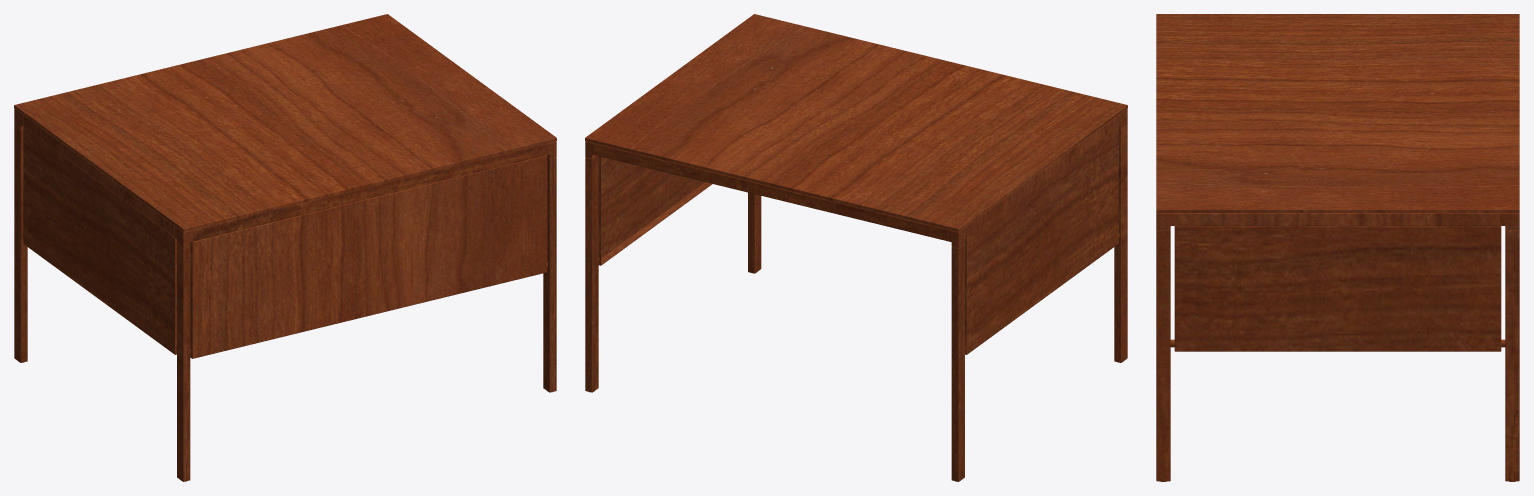
File: desk_03.fbx
3 renders of one model, left to right at view 1: azimuth 30°, elevation 25°; view 2: azimuth 150°, elevation 25°; view 3: azimuth 270°, elevation 25°, orthographic. The views are drawn at different scales.
Visible parts, largest first — view 1: Helsinki_Office_35_Desk_System_180x091; view 2: Helsinki_Office_35_Desk_System_180x091; view 3: Helsinki_Office_35_Desk_System_180x091.
Part boxes in pixels (box(x1,y1,x2,y2)): Helsinki_Office_35_Desk_System_180x091: box(14, 14, 556, 481); Helsinki_Office_35_Desk_System_180x091: box(585, 14, 1127, 481); Helsinki_Office_35_Desk_System_180x091: box(1156, 14, 1519, 481).
Bounding box in the file's own units: 160 × 104 × 126.
